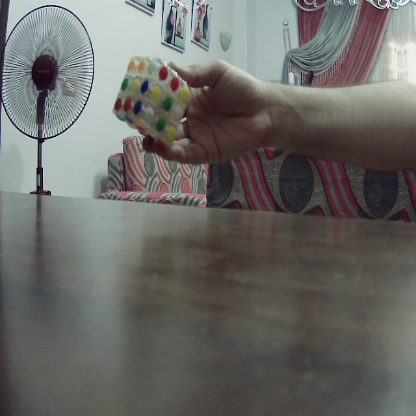Rubix Cube: (115, 59, 190, 151)
